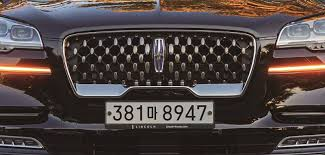car: (102, 98, 218, 131)
